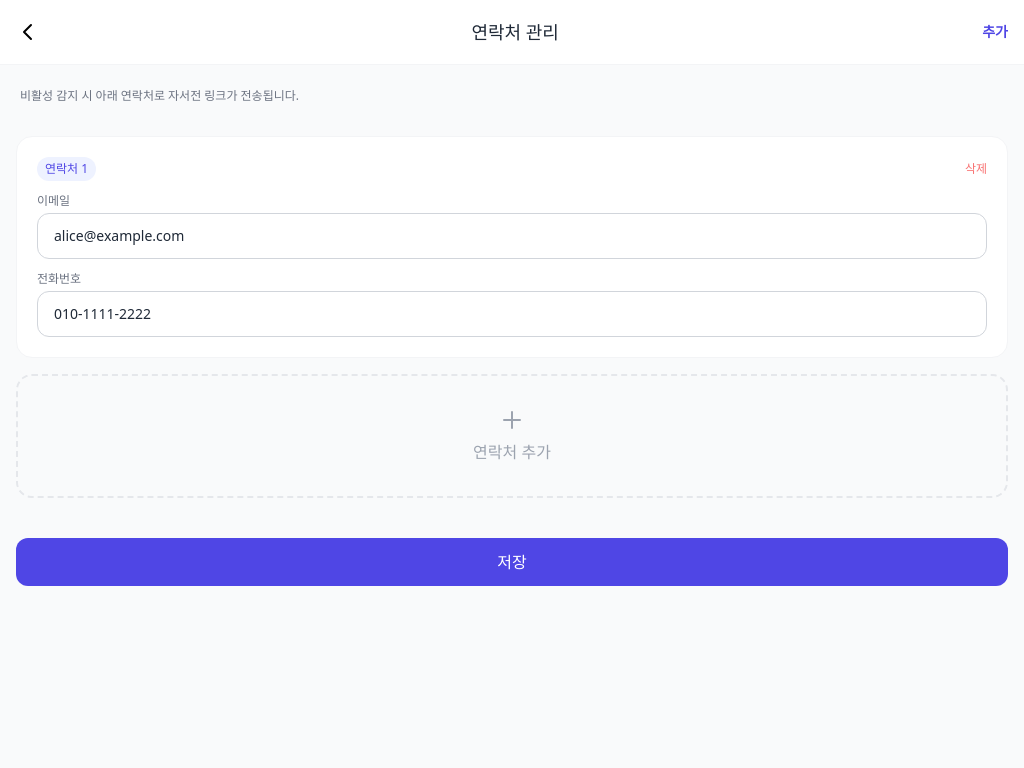
Test: Settings Contacts Flow - Integration Test › ContactCard Delete › should show empty state after deleting the last ContactCard
Check: the number of elements with test id "contact-card" is 1, box [16,136,1008,358]
What coordinates should you click on to do the following:
click the button with test id "contact-delete-button"
I would click on:
 (976, 169)
Its box is [965,161,987,177].
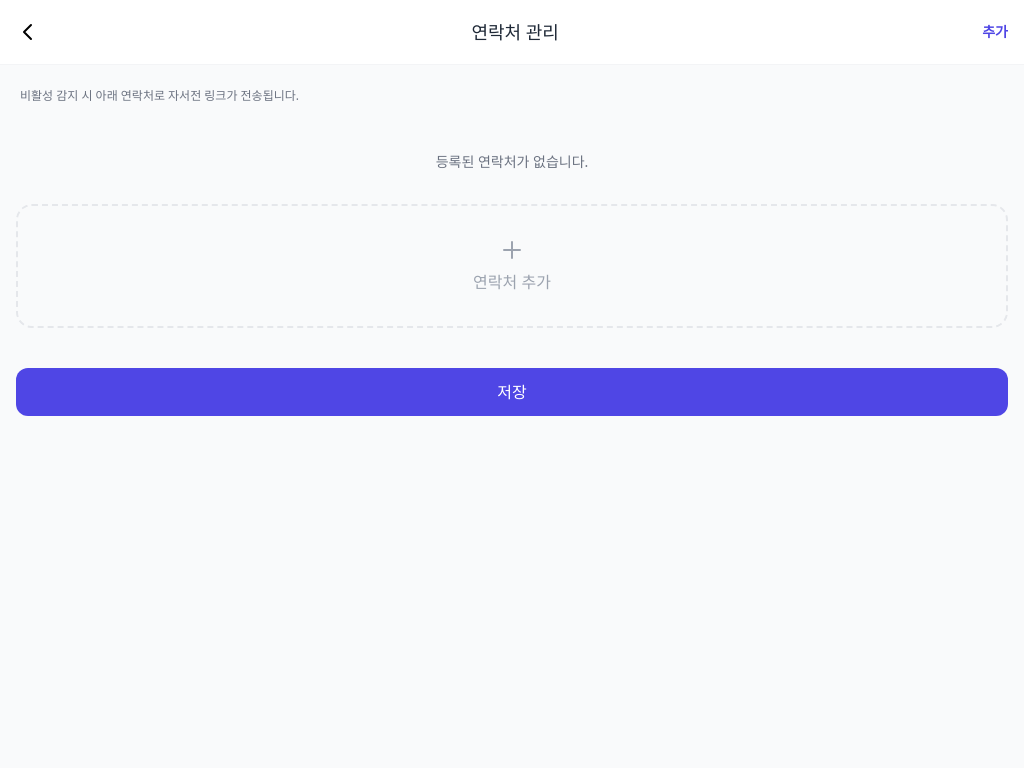
Check: no elements with test id "contact-card" are shown
Check: the text "등록된 연락처가 없습니다." is shown, box [436,152,588,171]
